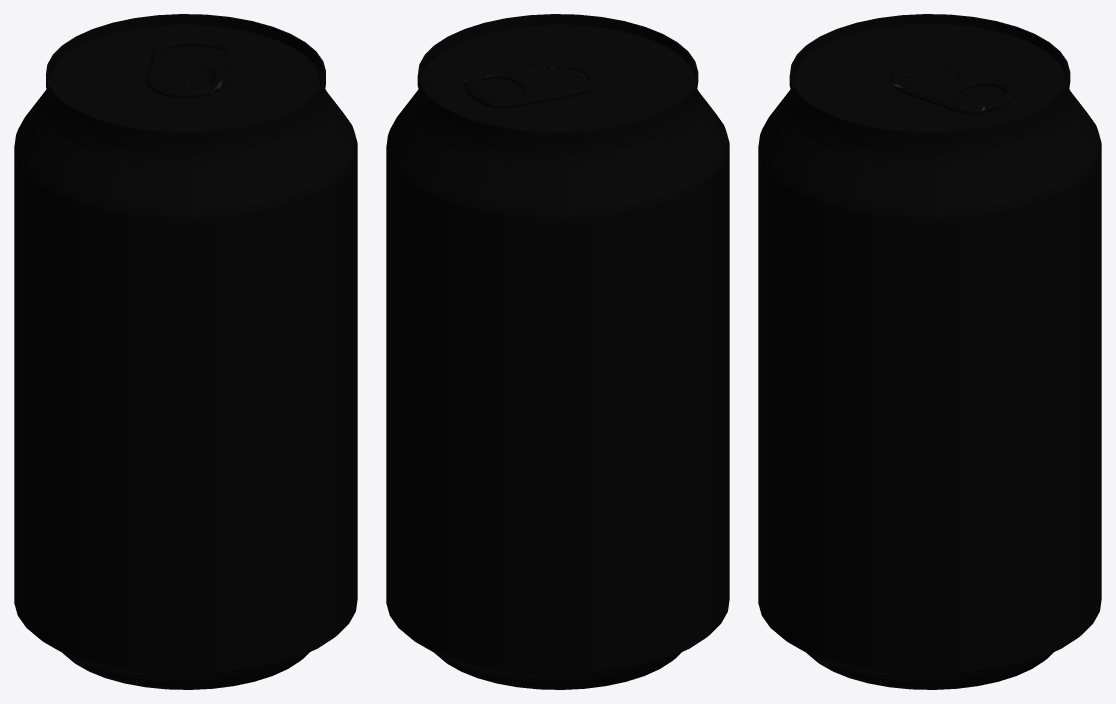
File: cannette.fbx
The picture shows the model from 3 angles, left to right: view 1: azimuth 30°, elevation 25°; view 2: azimuth 150°, elevation 25°; view 3: azimuth 270°, elevation 25°; orthographic projection.
Parts seen in each view (by area): view 1: node_id38, root (×2); view 2: node_id38, root (×2); view 3: node_id38, root (×2).
Boxes of the visible parts, x1,y1,x2,y2 form: node_id38: (14, 14, 357, 689); root (×2): (49, 25, 319, 131); node_id38: (386, 14, 729, 689); root (×2): (424, 25, 694, 131); node_id38: (758, 14, 1101, 689); root (×2): (794, 24, 1065, 131).
Bounding box in the file's own units: 0.2835 × 0.512 × 0.2835.
Materials: 3 (3 with a texture image).
